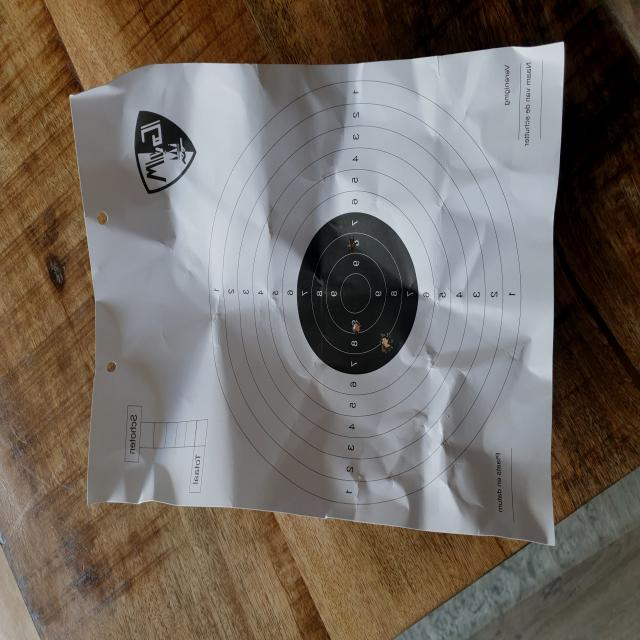8: (379, 333, 393, 353)
9: (346, 235, 357, 254), (352, 321, 362, 335)
Target: (208, 78, 522, 506)
black_contour: (296, 213, 418, 375)
